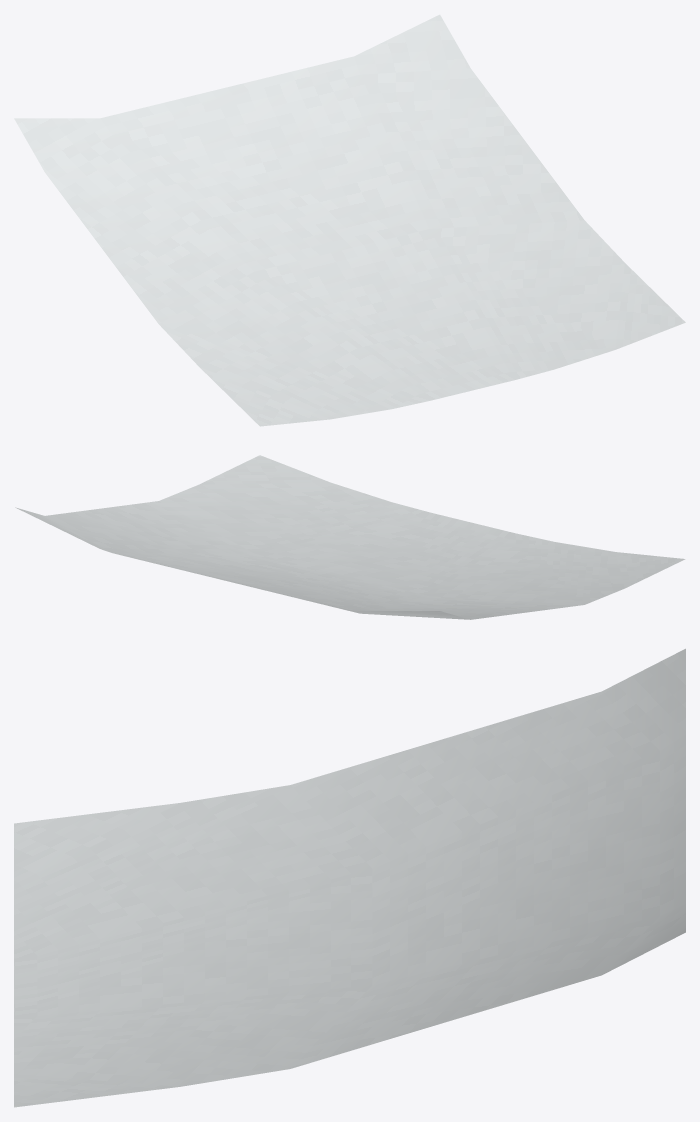
Rendered from bowl_medium_0_2_1.obj.
3 views of the same model, one above another, from view 1: azimuth 30°, elevation 25°; view 2: azimuth 150°, elevation 25°; view 3: azimuth 270°, elevation 25° (orthographic). The views are drawn at different scales.
Visible parts, largest first — view 1: bowl_medium_0_2_1; view 2: bowl_medium_0_2_1; view 3: bowl_medium_0_2_1.
Boxes of the visible parts, bbox=[...] form: bowl_medium_0_2_1: bbox=[14, 14, 685, 426]; bowl_medium_0_2_1: bbox=[15, 455, 685, 619]; bowl_medium_0_2_1: bbox=[14, 648, 685, 1107].
Size of the model in its own units: 3 by 0.9688 by 3.
